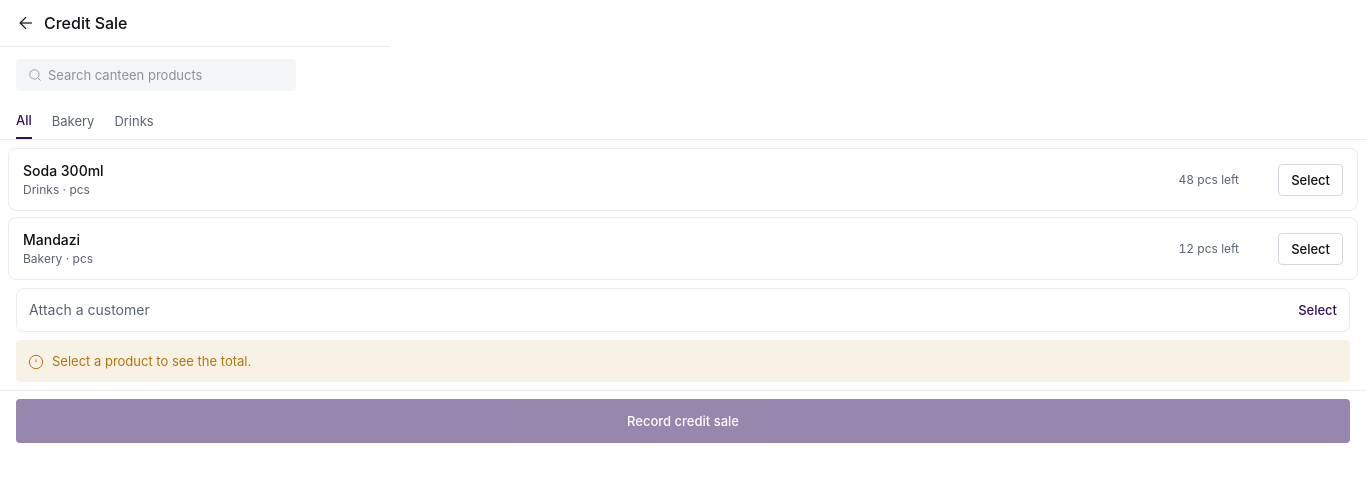
Test: Canteen Credit Sale Screen › a quantity above available stock blocks confirm
The width and height of the screenshot is (1366, 482).
Expected: the text "Mandazi" is shown, [23,231,80,248]
Click the button "Select" in the row of "12": (1311, 248) [1278,232,1343,264]
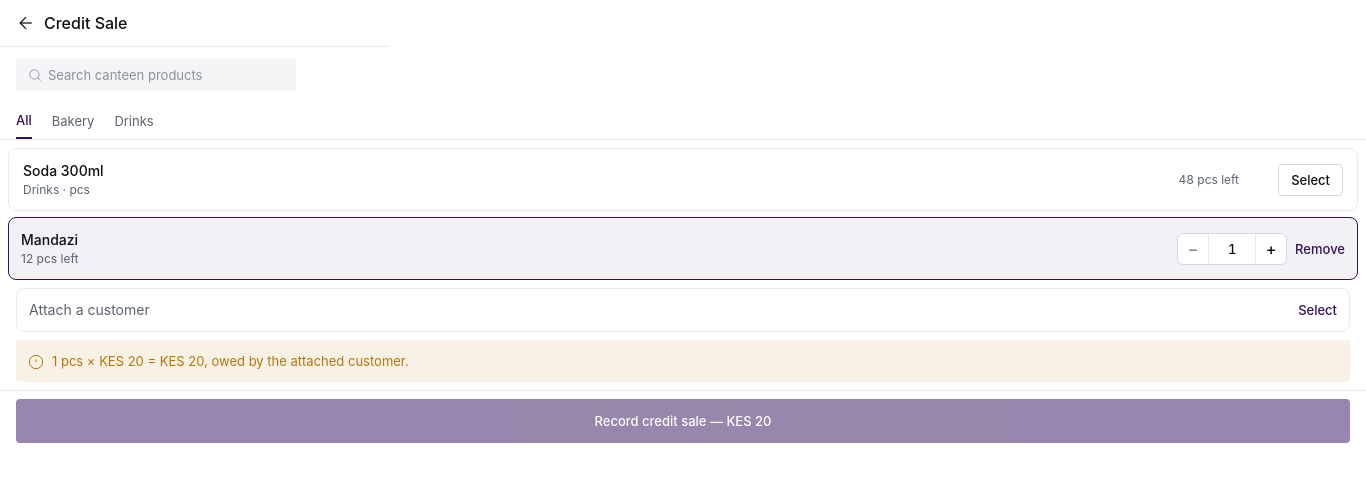
Replace the text in the number field named "Mandazi quantity" with "999": (1232, 248) [1224,240,1240,256]
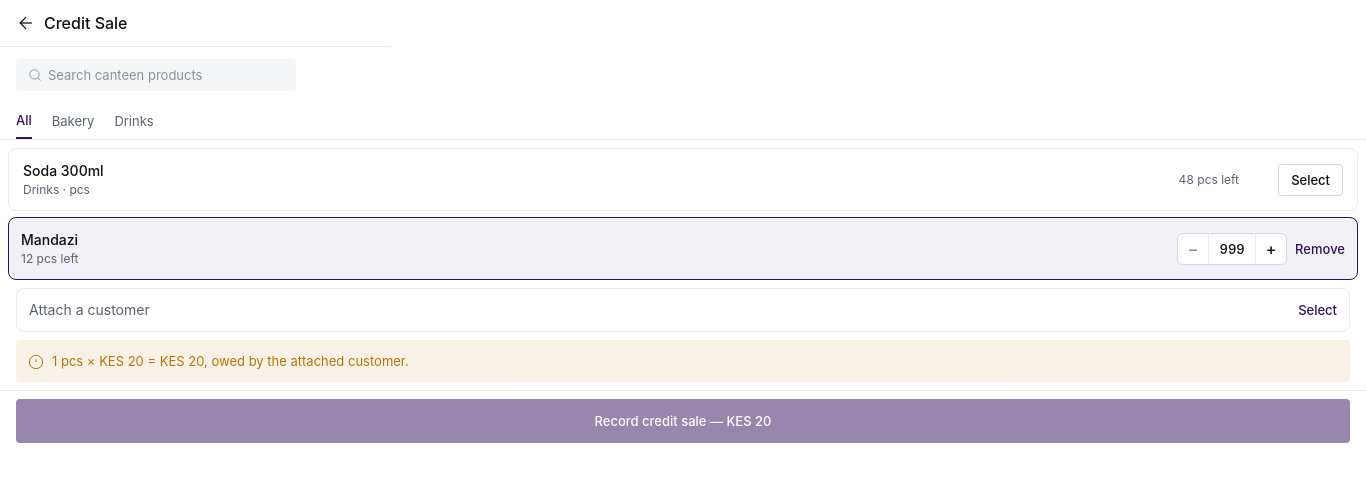
Press Tab
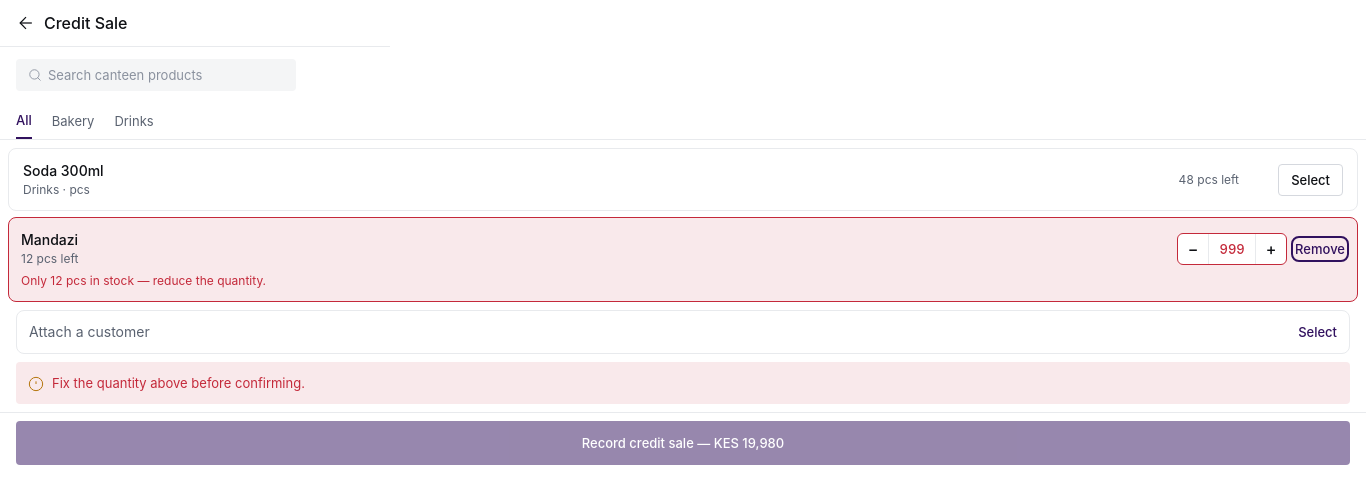
Now the text "Only 12 pcs in stock — reduce the quantity." is shown, box [21,273,266,288]
